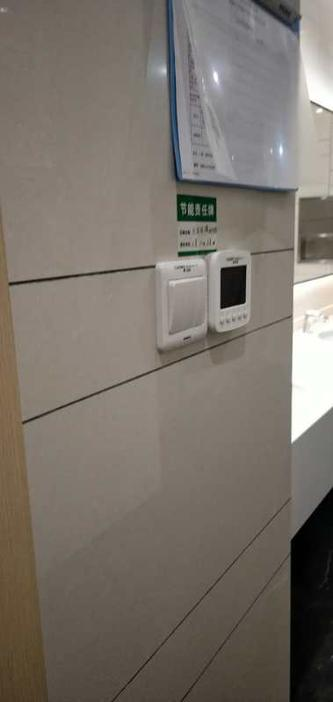switch: (168, 277, 214, 326)
